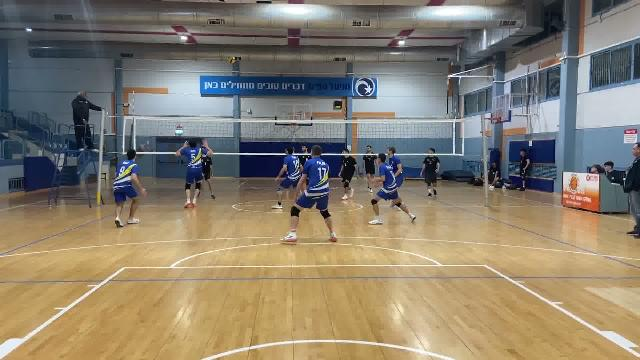ball: (227, 54, 237, 65)
